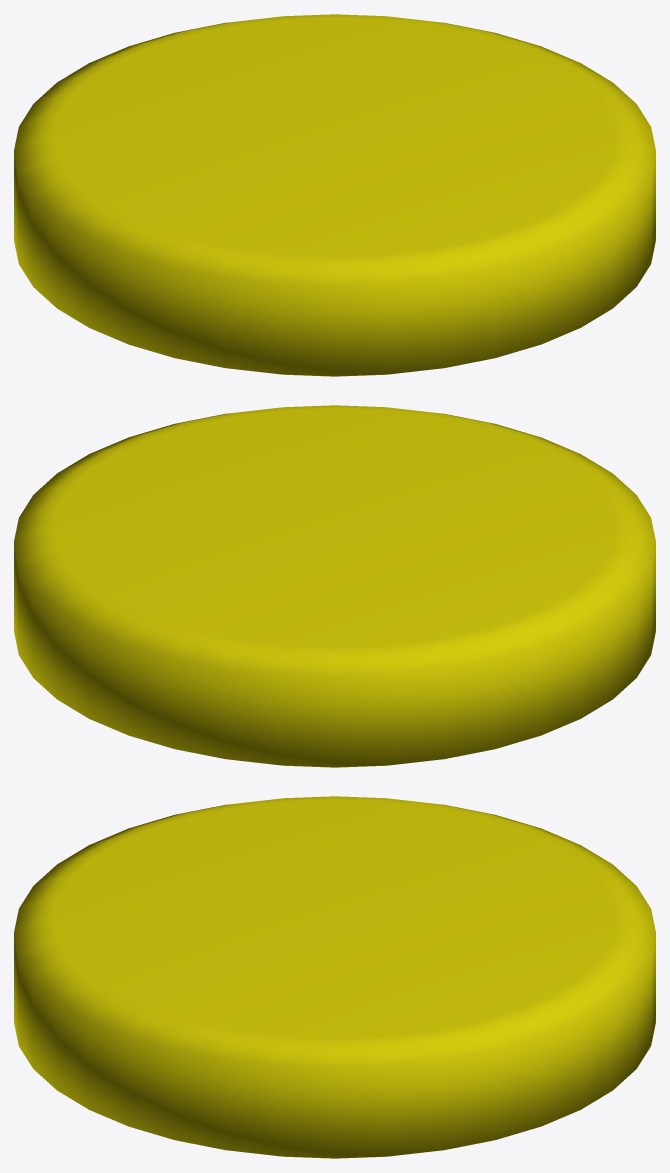
The model's file is circulo amarelo.fbx.
3 renders of one model, top to bottom at view 1: azimuth 30°, elevation 25°; view 2: azimuth 150°, elevation 25°; view 3: azimuth 270°, elevation 25°, orthographic.
Visible parts, largest first — view 1: Cylinder.003; view 2: Cylinder.003; view 3: Cylinder.003.
Part boxes in pixels (<box>): Cylinder.003: <box>14,14,655,376</box>; Cylinder.003: <box>14,405,655,767</box>; Cylinder.003: <box>14,796,655,1158</box>.
Bounding box in the file's own units: 0.2901 × 0.0579 × 0.2901.
